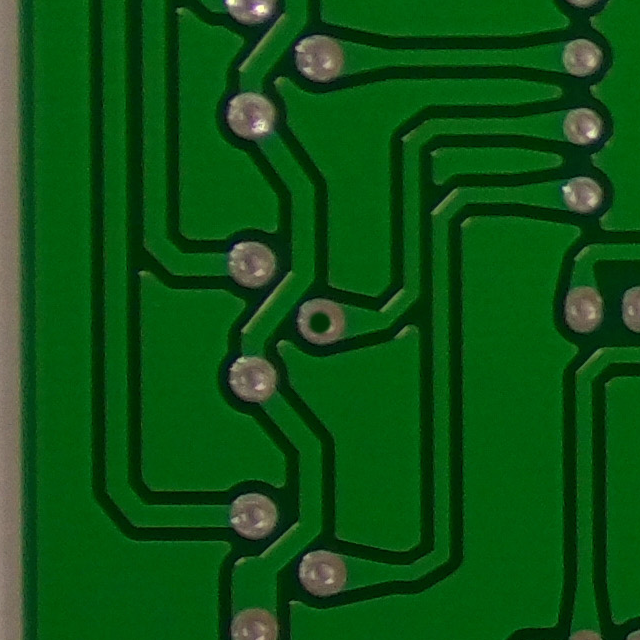missing_hole: (288, 291, 353, 350)
